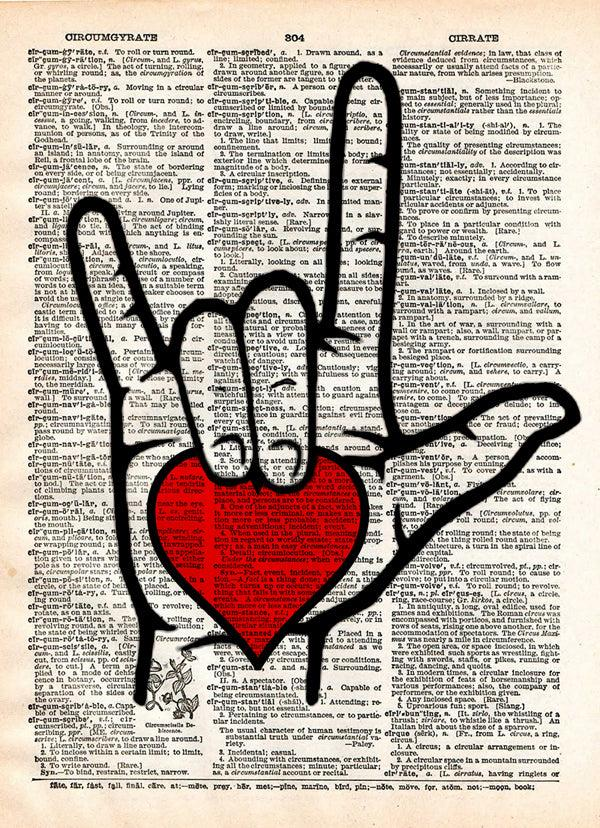Love_you: (59, 52, 578, 727)
